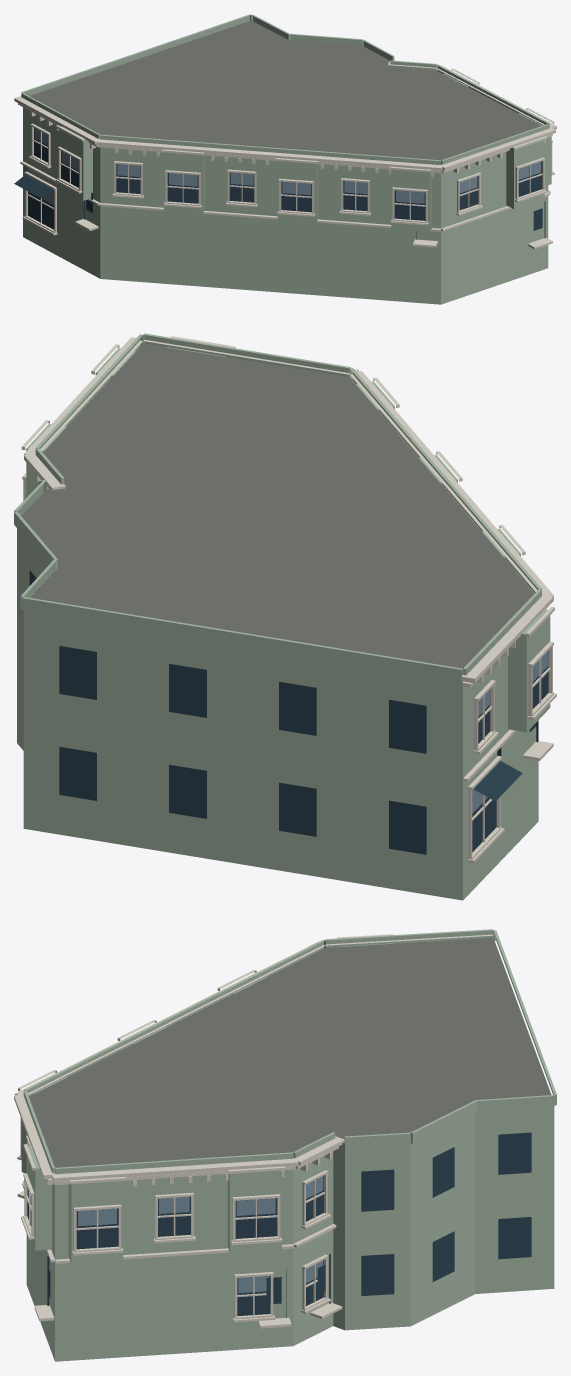
3 renders of one model, top to bottom at view 1: azimuth 30°, elevation 25°; view 2: azimuth 150°, elevation 25°; view 3: azimuth 270°, elevation 25°, orthographic. The views are drawn at different scales.
Parts seen in each view (by area): view 1: Footprint 0 / surface 2, Footprint 0 / surface 1, Cornices and window frames, Facade bay volumes, Inset glazing, Sky reflection panels, Storefronts and doors; view 2: Footprint 0 / surface 1, Footprint 0 / surface 2, Facade bay volumes, Inset glazing, Cornices and window frames, Storefronts and doors; view 3: Footprint 0 / surface 1, Footprint 0 / surface 2, Facade bay volumes, Cornices and window frames, Inset glazing, Sky reflection panels.
Part boxes in pixels (x1=…): Footprint 0 / surface 2: x1=23, y1=107, x2=548, y2=304; Footprint 0 / surface 1: x1=29, y1=20, x2=541, y2=160; Cornices and window frames: x1=14, y1=61, x2=556, y2=249; Facade bay volumes: x1=21, y1=14, x2=551, y2=231; Inset glazing: x1=28, y1=128, x2=542, y2=230; Sky reflection panels: x1=29, y1=128, x2=540, y2=205; Storefronts and doors: x1=14, y1=166, x2=545, y2=239; Footprint 0 / surface 1: x1=21, y1=343, x2=534, y2=668; Footprint 0 / surface 2: x1=17, y1=481, x2=538, y2=900; Facade bay volumes: x1=14, y1=333, x2=550, y2=732; Inset glazing: x1=29, y1=570, x2=548, y2=854; Cornices and window frames: x1=21, y1=336, x2=556, y2=862; Storefronts and doors: x1=473, y1=721, x2=538, y2=801; Footprint 0 / surface 1: x1=29, y1=937, x2=551, y2=1167; Footprint 0 / surface 2: x1=26, y1=1106, x2=554, y2=1361; Facade bay volumes: x1=21, y1=929, x2=556, y2=1263; Cornices and window frames: x1=14, y1=934, x2=493, y2=1328; Inset glazing: x1=27, y1=1132, x2=531, y2=1315; Sky reflection panels: x1=27, y1=1176, x2=323, y2=1293.
Bounding box in the file's own units: 25.9 × 9.16 × 23.24.
